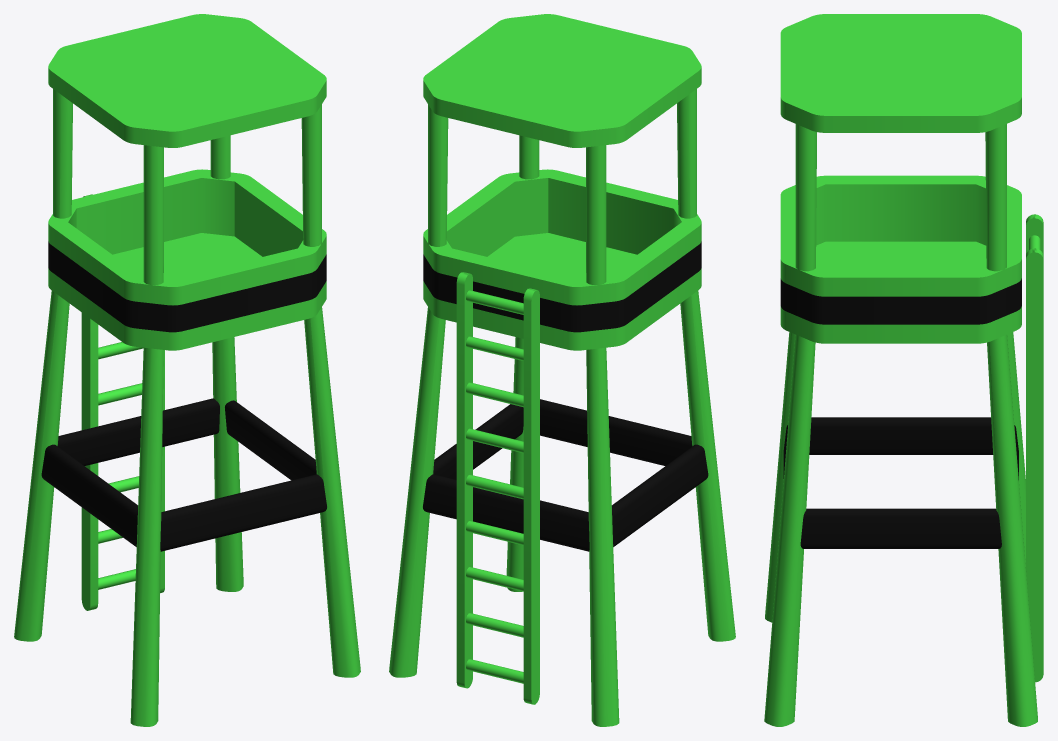
File: Tower.fbx
The picture shows the model from 3 angles, left to right: view 1: azimuth 30°, elevation 25°; view 2: azimuth 150°, elevation 25°; view 3: azimuth 270°, elevation 25°; orthographic projection. The views are drawn at different scales.
Parts seen in each view (by area): view 1: Tower; view 2: Tower; view 3: Tower.
Part boxes in pixels (x1=…): Tower: x1=14, y1=14, x2=360, y2=726; Tower: x1=389, y1=14, x2=735, y2=726; Tower: x1=764, y1=14, x2=1043, y2=726.
Size of the model in its own units: 76.15 by 186 by 77.81.
